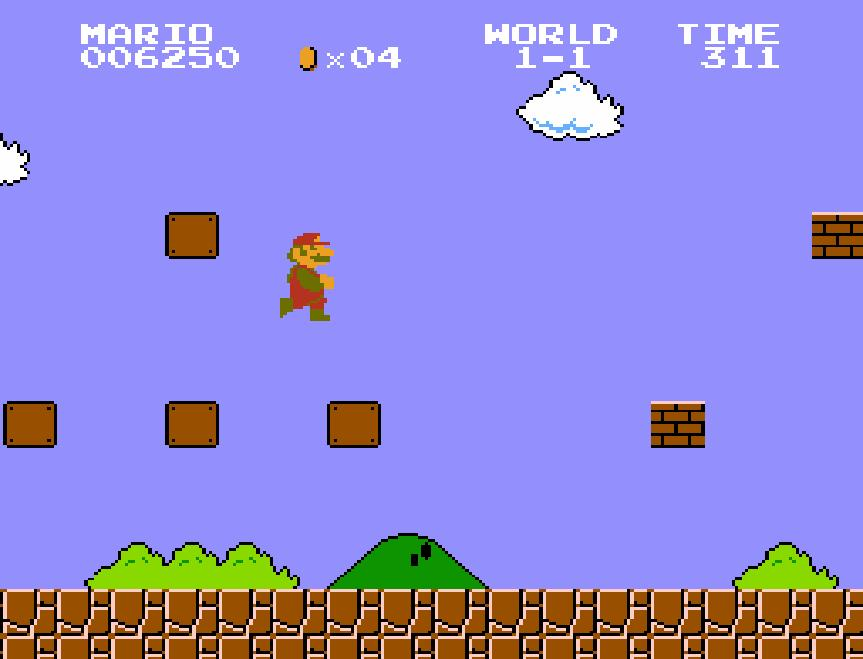big_mario: (278, 224, 336, 322)
